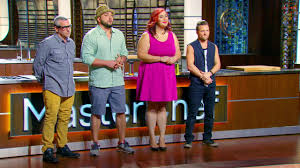Bad: (32, 5, 135, 163), (81, 6, 181, 157), (137, 7, 220, 152)
